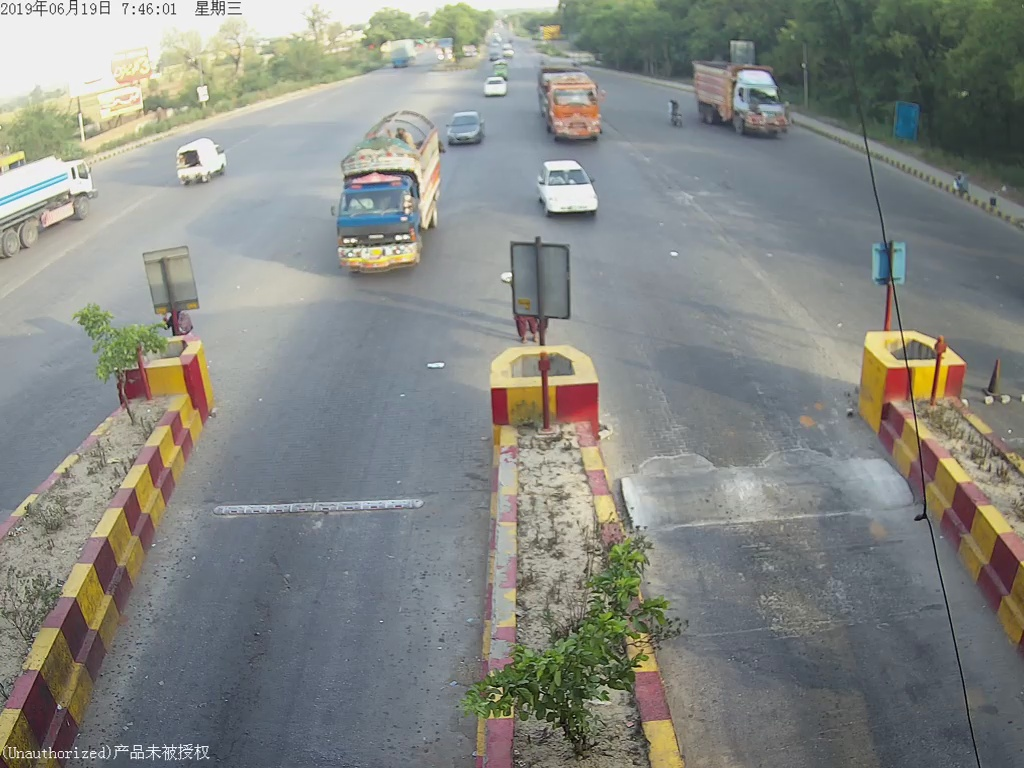Cat-1: (529, 159, 606, 222)
Cat-4: (329, 114, 441, 276)
